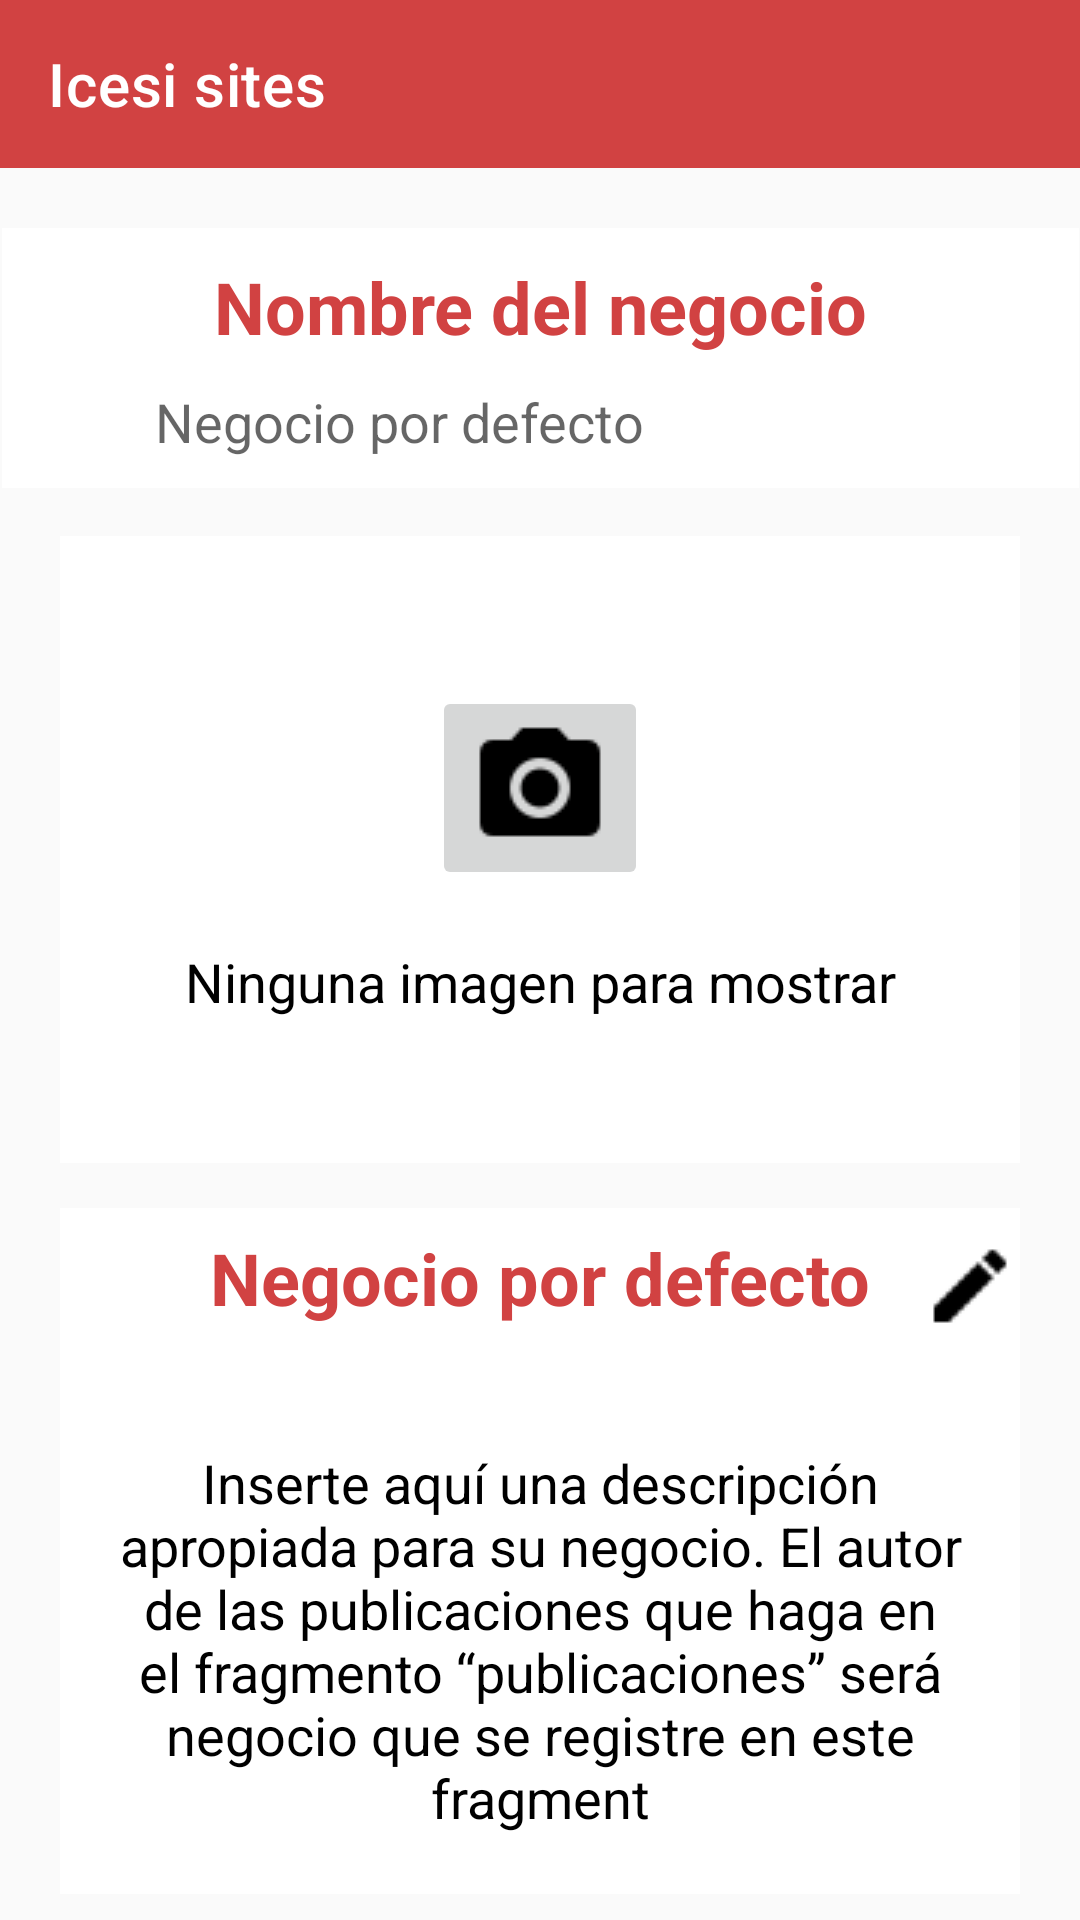

Point at icon controls on the screen. Image size 1080×1920, points as (x,y).
camera: (540,788)
edit: (970,1286)
